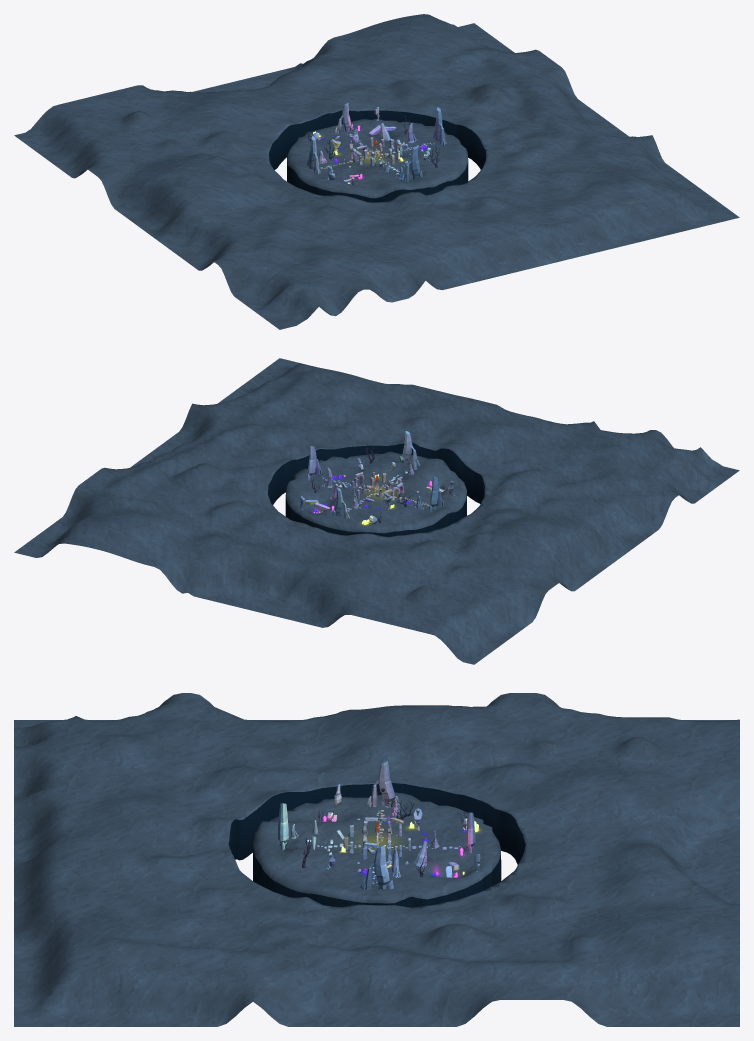
The model's file is portalworld12.glb.
3 views of the same model, one above another, from view 1: azimuth 30°, elevation 25°; view 2: azimuth 150°, elevation 25°; view 3: azimuth 270°, elevation 25° (orthographic). The views are drawn at different scales.
Parts seen in each view (by area): view 1: ground, epicrocks, randomrocks; view 2: ground, epicrocks, randomrocks; view 3: ground, epicrocks, mediumrocks, randomrocks.
Boxes of the visible parts, bbox=[...] form: ground: bbox=[14, 14, 739, 329]; epicrocks: bbox=[307, 103, 446, 181]; randomrocks: bbox=[311, 107, 402, 182]; ground: bbox=[14, 358, 739, 664]; epicrocks: bbox=[307, 431, 443, 519]; randomrocks: bbox=[300, 457, 454, 523]; ground: bbox=[14, 693, 739, 1026]; epicrocks: bbox=[278, 761, 475, 890]; mediumrocks: bbox=[311, 808, 427, 877]; randomrocks: bbox=[290, 784, 480, 878].
Bounding box in the file's own units: 1452 × 205 × 1452.
29 materials, 16 textured.
